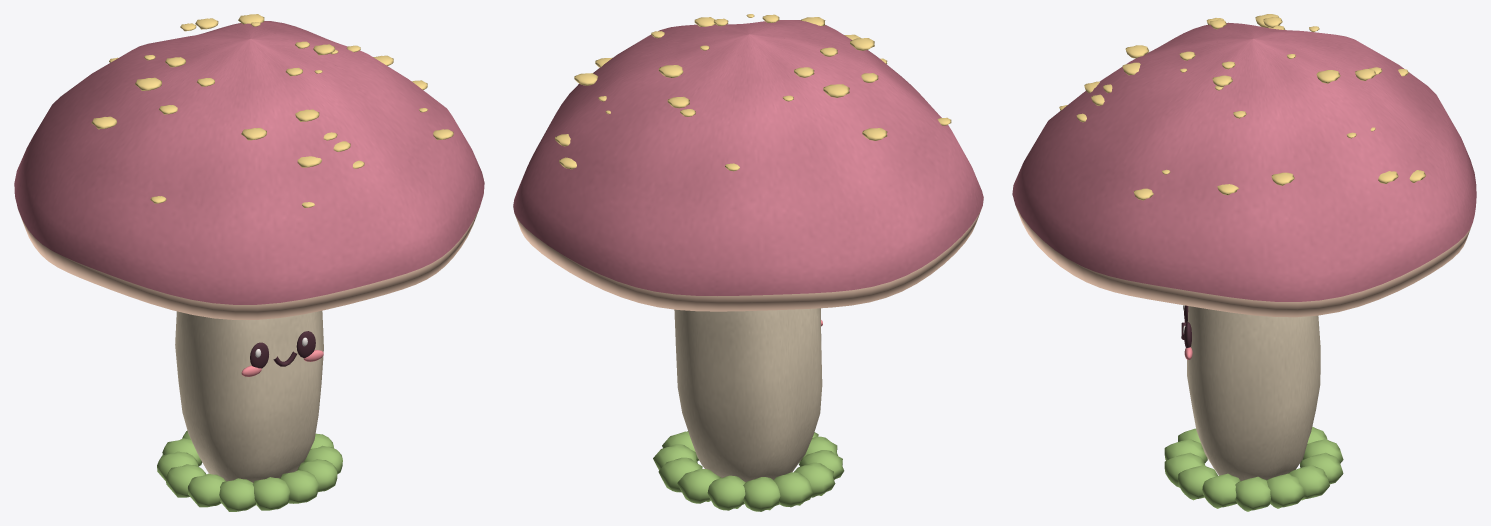
The model's file is mushroom.glb.
3 views of the same model, side by side, from view 1: azimuth 30°, elevation 25°; view 2: azimuth 150°, elevation 25°; view 3: azimuth 270°, elevation 25° (orthographic).
Visible parts, largest first — view 1: mushroom; view 2: mushroom; view 3: mushroom.
Boxes of the visible parts, x1=… form: mushroom: x1=14, y1=14, x2=484, y2=511; mushroom: x1=513, y1=14, x2=983, y2=511; mushroom: x1=1012, y1=14, x2=1476, y2=511.
Bounding box in the file's own units: 1.4 × 1.48 × 1.4.
Materials: 9 (2 with a texture image).
